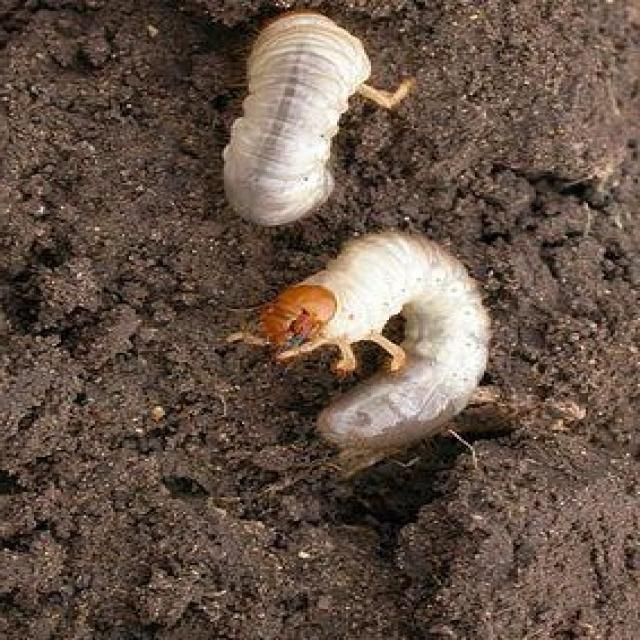grub: (249, 229, 495, 472), (206, 9, 389, 227)
